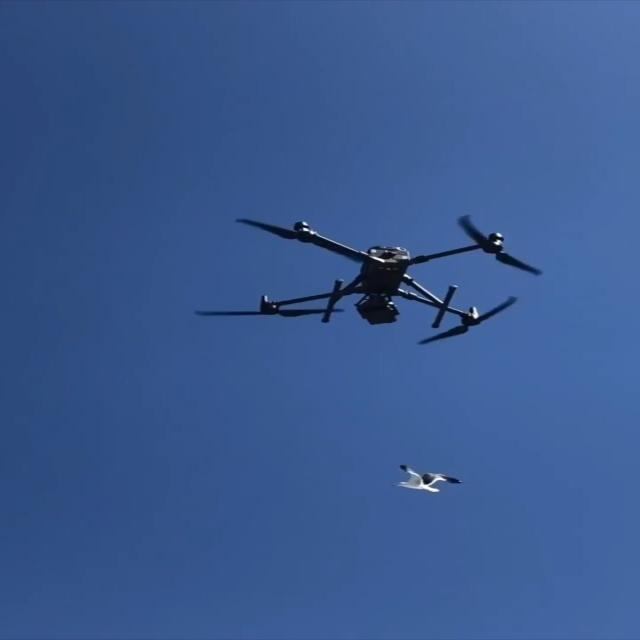bird: (390, 464, 462, 492)
drone: (193, 213, 542, 344)
